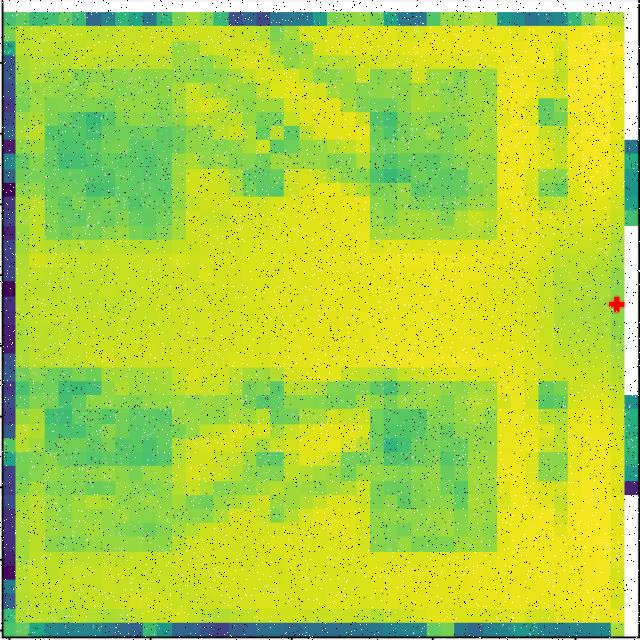Concrete: (372, 370, 498, 552)
Glass: (370, 69, 497, 240)
Metal: (52, 404, 174, 553)
Wood: (48, 66, 185, 239)
